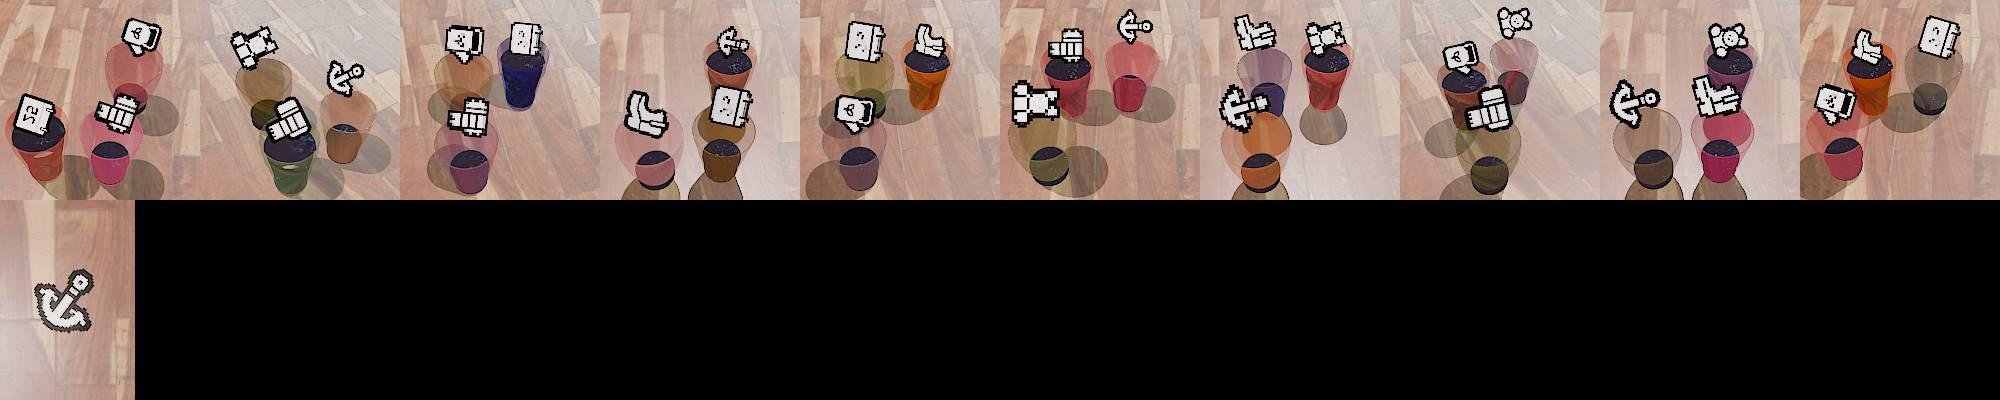icon: (34, 266, 97, 333), (1607, 78, 1660, 130), (1218, 83, 1270, 133), (1010, 77, 1060, 128), (1464, 83, 1515, 132), (1688, 73, 1741, 119), (264, 95, 313, 143), (230, 24, 280, 71), (624, 89, 669, 140), (12, 92, 58, 138), (709, 83, 754, 129), (92, 92, 141, 134), (1918, 15, 1961, 60), (447, 93, 490, 137), (844, 20, 886, 64), (442, 23, 487, 64), (1813, 84, 1855, 126), (121, 18, 162, 58), (834, 94, 877, 132), (1305, 19, 1348, 56), (326, 58, 366, 97), (1234, 14, 1275, 52), (1045, 25, 1086, 63), (1708, 21, 1749, 58), (1442, 39, 1482, 74), (1115, 8, 1152, 45), (913, 22, 948, 60), (508, 21, 543, 59), (716, 25, 752, 60), (1850, 28, 1884, 65), (1497, 6, 1534, 39)
